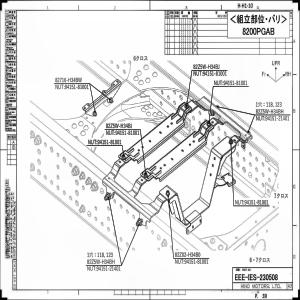PartNumber: (255, 108, 285, 115), (106, 122, 132, 130), (193, 63, 220, 70), (174, 251, 201, 258), (55, 77, 82, 83), (223, 80, 249, 86), (115, 130, 140, 136), (97, 139, 122, 145), (244, 199, 269, 205), (184, 259, 209, 265), (86, 259, 115, 264), (65, 84, 89, 90), (265, 116, 290, 121), (96, 266, 121, 271), (203, 71, 227, 76)
